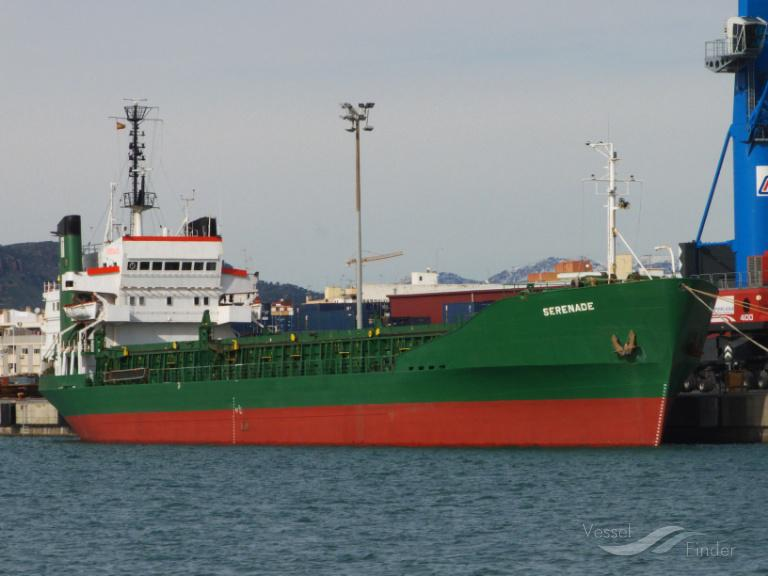OCR: (531, 298, 600, 318)
